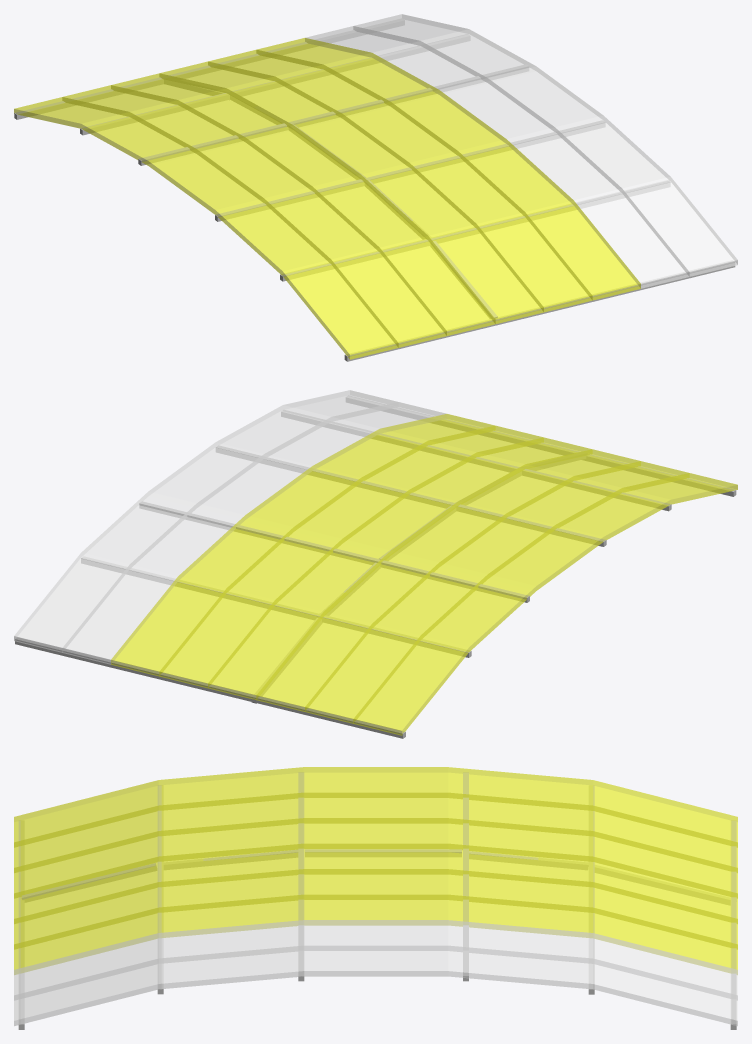
The model's file is alt_panels.obj.
3 renders of one model, top to bottom at view 1: azimuth 30°, elevation 25°; view 2: azimuth 150°, elevation 25°; view 3: azimuth 270°, elevation 25°, orthographic. The views are drawn at different scales.
Parts seen in each view (by area): view 1: Cube.011_Material, Cube.011_Material.001, Cube.011_; view 2: Cube.011_Material, Cube.011_Material.001, Cube.011_; view 3: Cube.011_Material, Cube.011_Material.001, Cube.011_.
Boxes of the visible parts, left/top/right/bottom form: Cube.011_Material: left=14, top=38, right=640, bottom=359; Cube.011_Material.001: left=305, top=14, right=737, bottom=288; Cube.011_: left=14, top=18, right=735, bottom=361; Cube.011_Material: left=111, top=414, right=737, bottom=735; Cube.011_Material.001: left=14, top=390, right=446, bottom=664; Cube.011_: left=15, top=395, right=736, bottom=738; Cube.011_Material: left=14, top=767, right=737, bottom=974; Cube.011_Material.001: left=14, top=920, right=737, bottom=1026; Cube.011_: left=18, top=772, right=736, bottom=1029.
Size of the model in its own units: 16.02 by 2.2 by 24.
